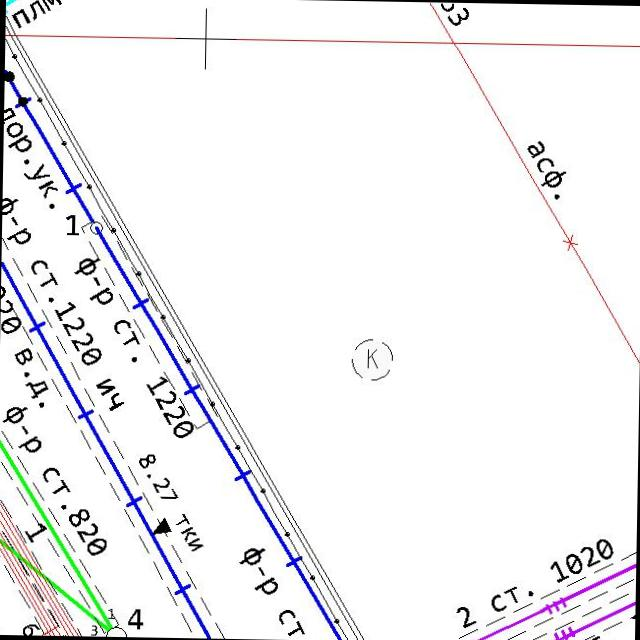asphalt: (524, 137, 568, 201)
bushes: (350, 336, 394, 382)
mark: (152, 515, 172, 538)
